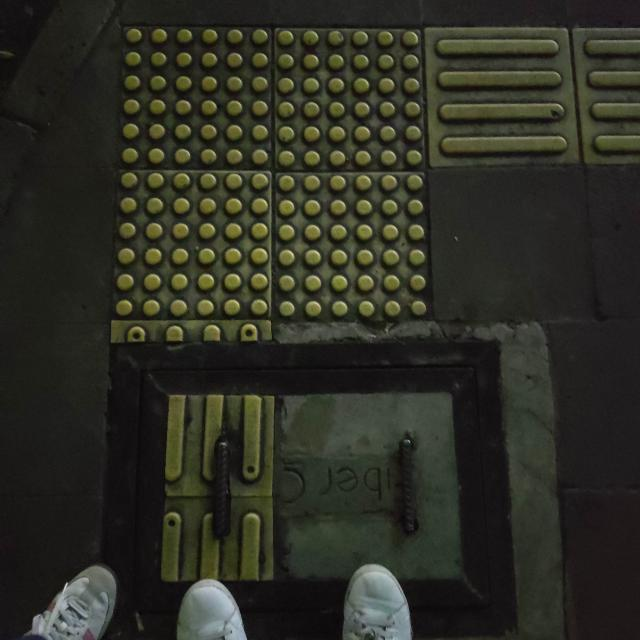kanan: (61, 8, 640, 420)
